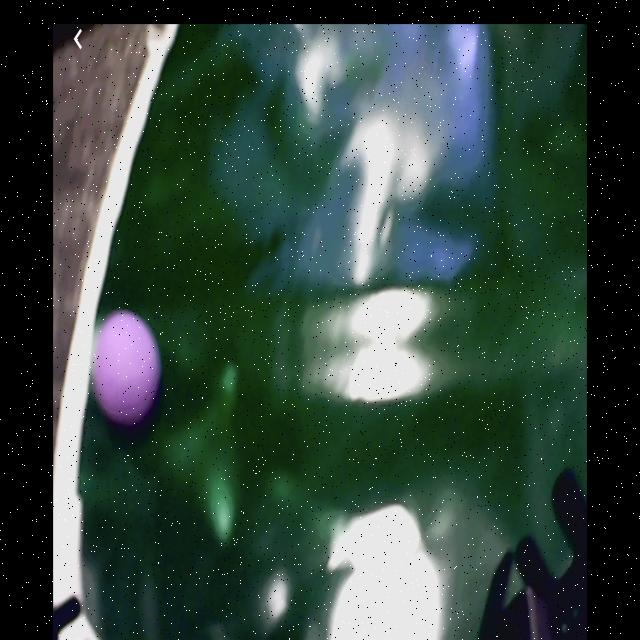ball: (90, 310, 160, 420)
